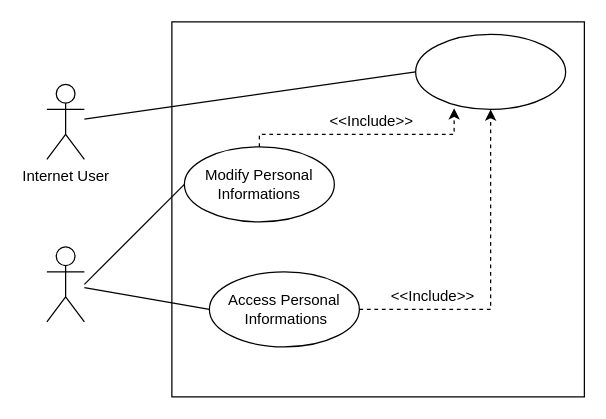
This 606x419 diagram has some shape labels left out. The centre of each missing label's shape, as x and y in pixels:
Administrator: (x=65, y=284)
Login into Account: (x=490, y=71)
